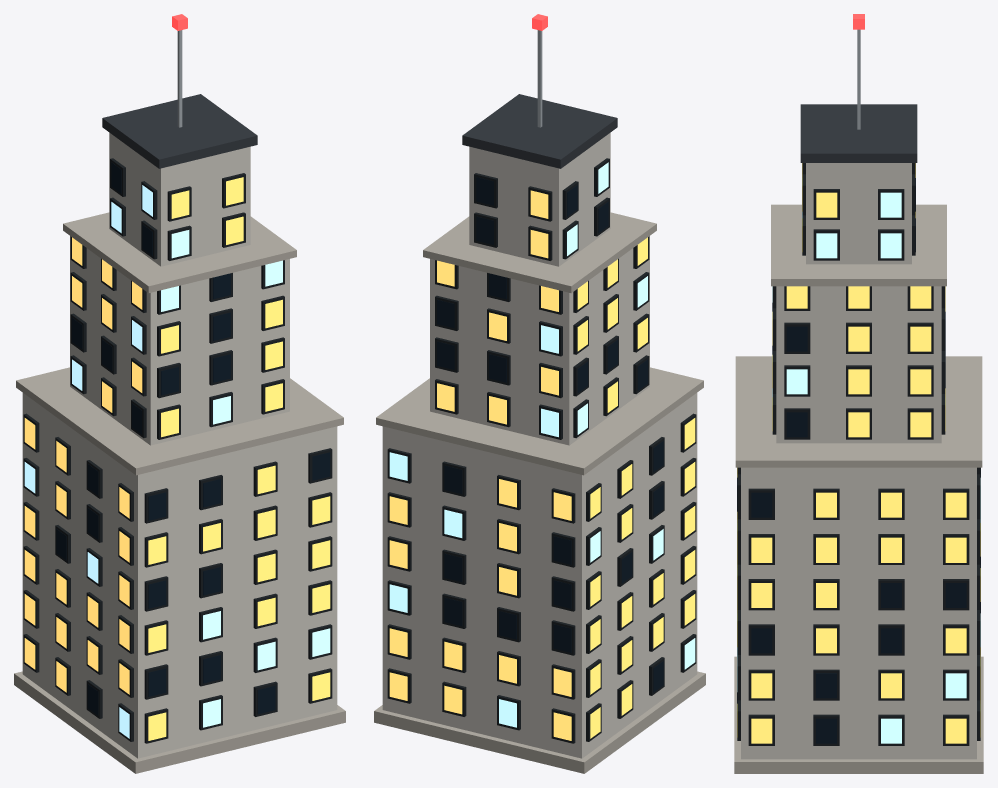
File: sk_stepped.glb
3 renders of one model, left to right at view 1: azimuth 30°, elevation 25°; view 2: azimuth 150°, elevation 25°; view 3: azimuth 270°, elevation 25°, orthographic. The views are drawn at different scales.
Parts seen in each view (by area): view 1: stepped_Wall, stepped_Frame, stepped_Trim, stepped_GlassLit, stepped_GlassDark, stepped_Roof, stepped_GlassCool, stepped_Metal; view 2: stepped_Wall, stepped_Frame, stepped_Trim, stepped_GlassLit, stepped_GlassDark, stepped_Roof, stepped_GlassCool, stepped_Metal; view 3: stepped_Wall, stepped_Trim, stepped_Frame, stepped_GlassLit, stepped_Roof, stepped_GlassDark, stepped_GlassCool.
Part boxes in pixels (x1,y1,x2,y2): stepped_Wall: [22, 132, 337, 758]; stepped_Frame: [23, 158, 332, 743]; stepped_Trim: [14, 212, 345, 773]; stepped_GlassLit: [24, 177, 330, 740]; stepped_GlassDark: [56, 162, 330, 715]; stepped_Roof: [102, 94, 257, 168]; stepped_GlassCool: [24, 185, 330, 738]; stepped_Metal: [177, 30, 182, 127]; stepped_Wall: [382, 132, 697, 758]; stepped_Frame: [387, 158, 696, 743]; stepped_Trim: [374, 212, 705, 773]; stepped_GlassLit: [389, 190, 695, 740]; stepped_GlassDark: [437, 177, 663, 692]; stepped_Roof: [462, 94, 617, 168]; stepped_GlassCool: [389, 162, 695, 727]; stepped_Metal: [537, 30, 542, 127]; stepped_Wall: [741, 163, 976, 759]; stepped_Trim: [734, 204, 983, 773]; stepped_Frame: [737, 163, 980, 745]; stepped_GlassLit: [737, 163, 980, 743]; stepped_Roof: [800, 104, 917, 162]; stepped_GlassDark: [737, 178, 980, 743]; stepped_GlassCool: [737, 192, 980, 743].
Size of the model in its own units: 19 by 59.25 by 19.
